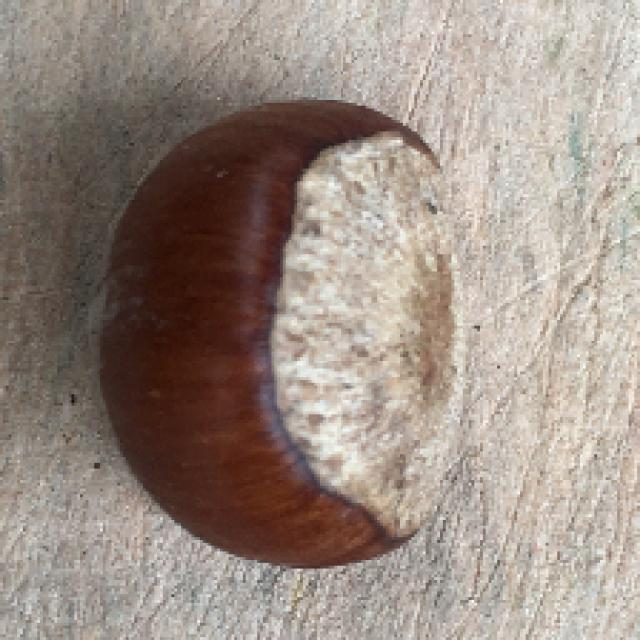qualityHazelnut: (96, 93, 473, 569)
